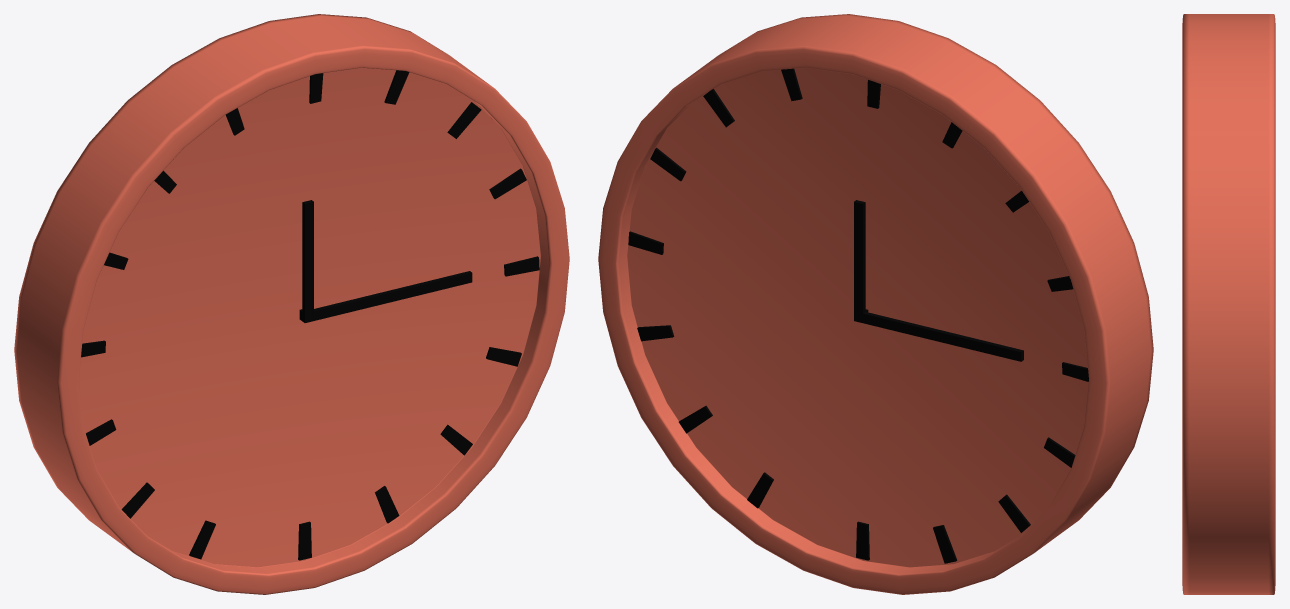
File: Clock.fbx
The picture shows the model from 3 angles, left to right: view 1: azimuth 30°, elevation 25°; view 2: azimuth 150°, elevation 25°; view 3: azimuth 270°, elevation 25°; orthographic projection.
Visible parts, largest first — view 1: Cylinder.001; view 2: Cylinder.001; view 3: Cylinder.001.
Part boxes in pixels (x1,y1,x2,y2): Cylinder.001: (14, 14, 569, 594); Cylinder.001: (598, 14, 1153, 594); Cylinder.001: (1182, 14, 1275, 594).
Size of the model in its own units: 200 by 200 by 32.05.
